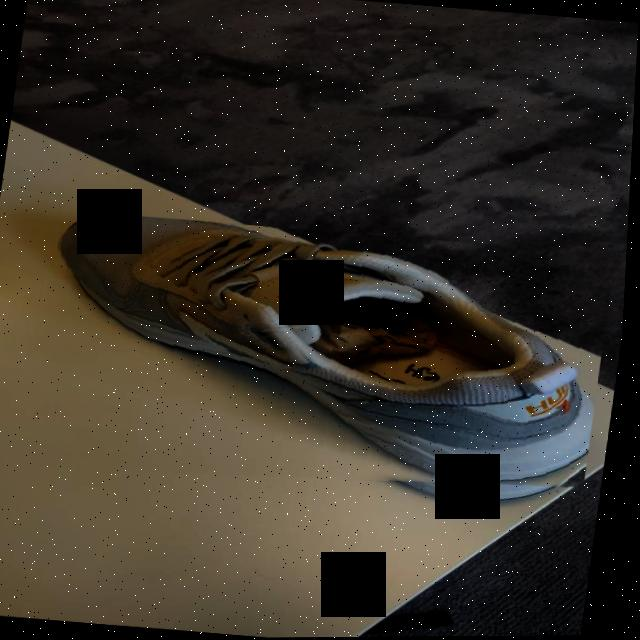shoe: (29, 206, 620, 516)
